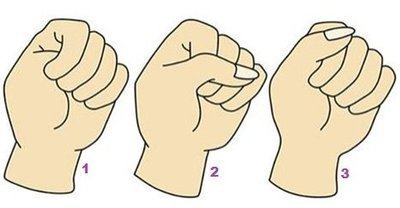closedhandfront: (133, 4, 271, 159), (267, 12, 400, 160), (5, 6, 127, 148)
